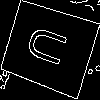U: (24, 23, 77, 72)
